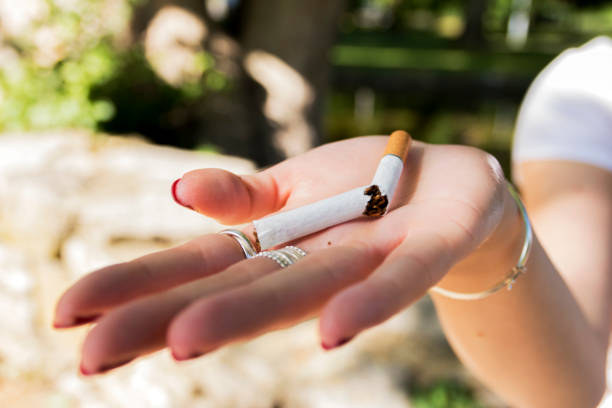cigarette: (251, 184, 382, 251), (368, 129, 413, 217)
